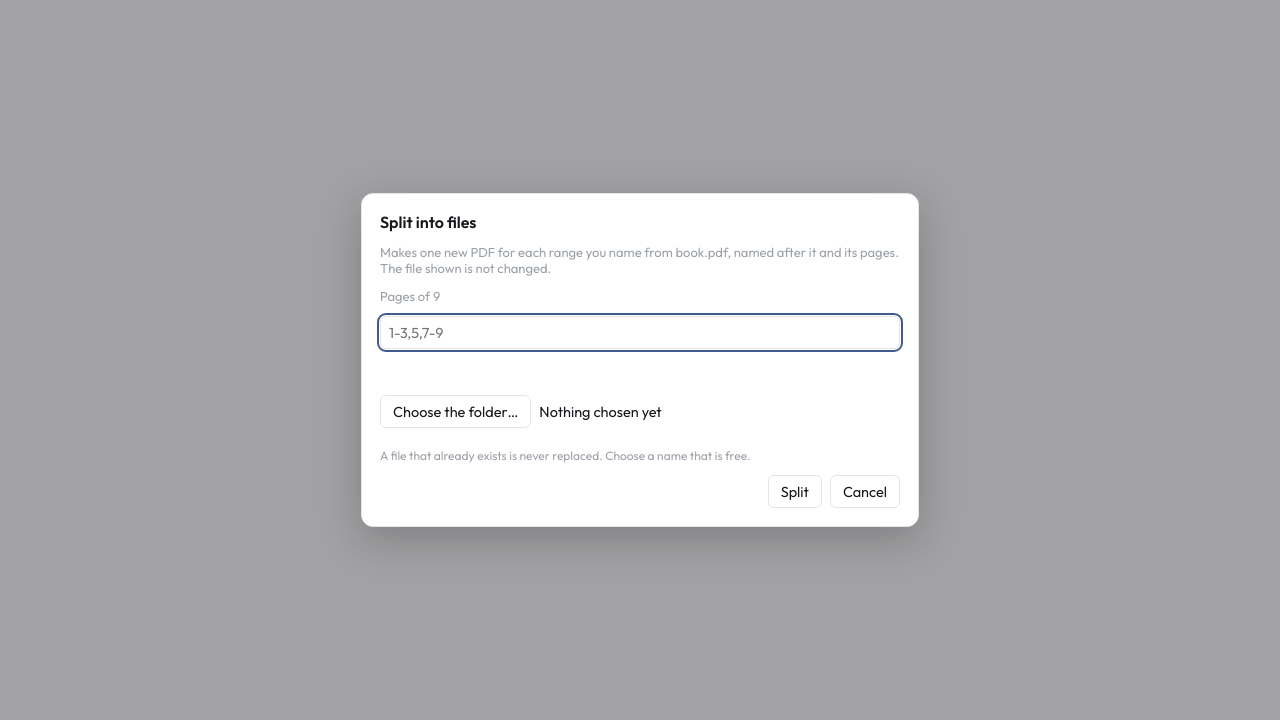
Test case: split_refuses_two_ranges_that_would_write_the_same_file
Click the button "Choose the folder…".
click(456, 412)  # box [380,395,531,428]
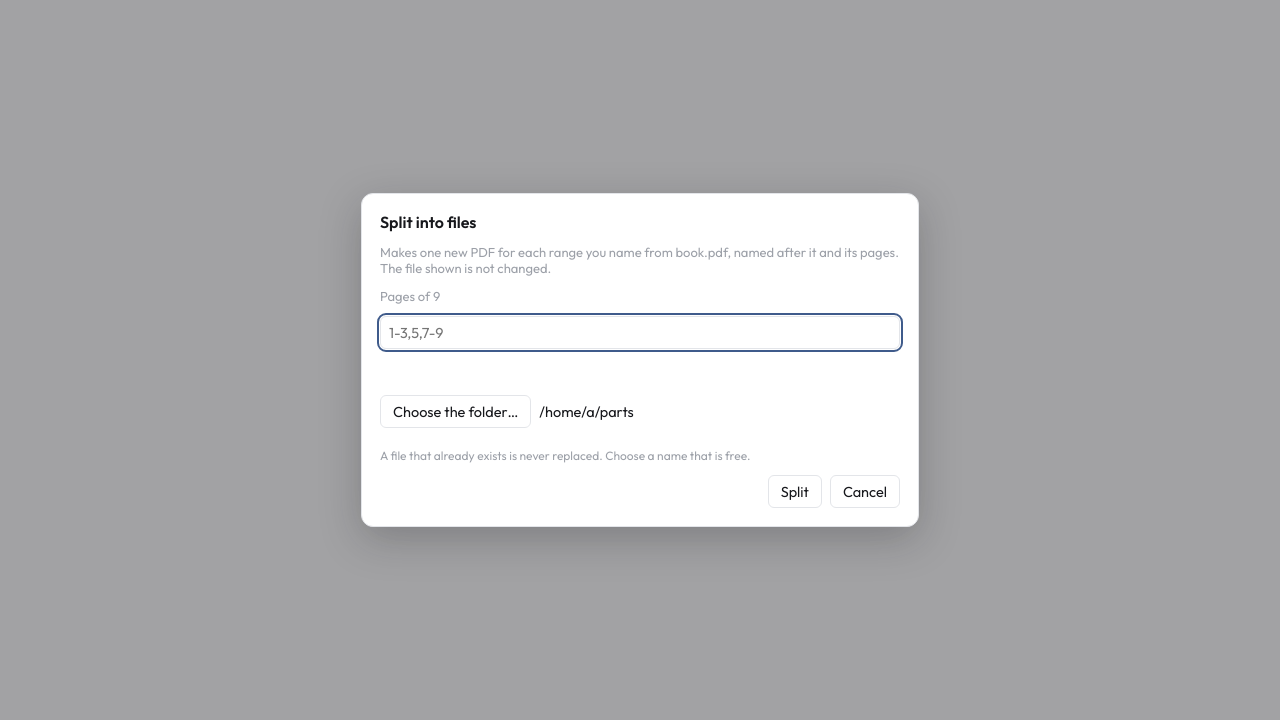
Expected: the text with test id "pdf-job-target" no longer shows "Nothing", [539,402,634,421]
Type "5,5-5" into the field labelled "Pages of 9".
click(640, 332); type("5,5-5")  # box [380,316,900,349]
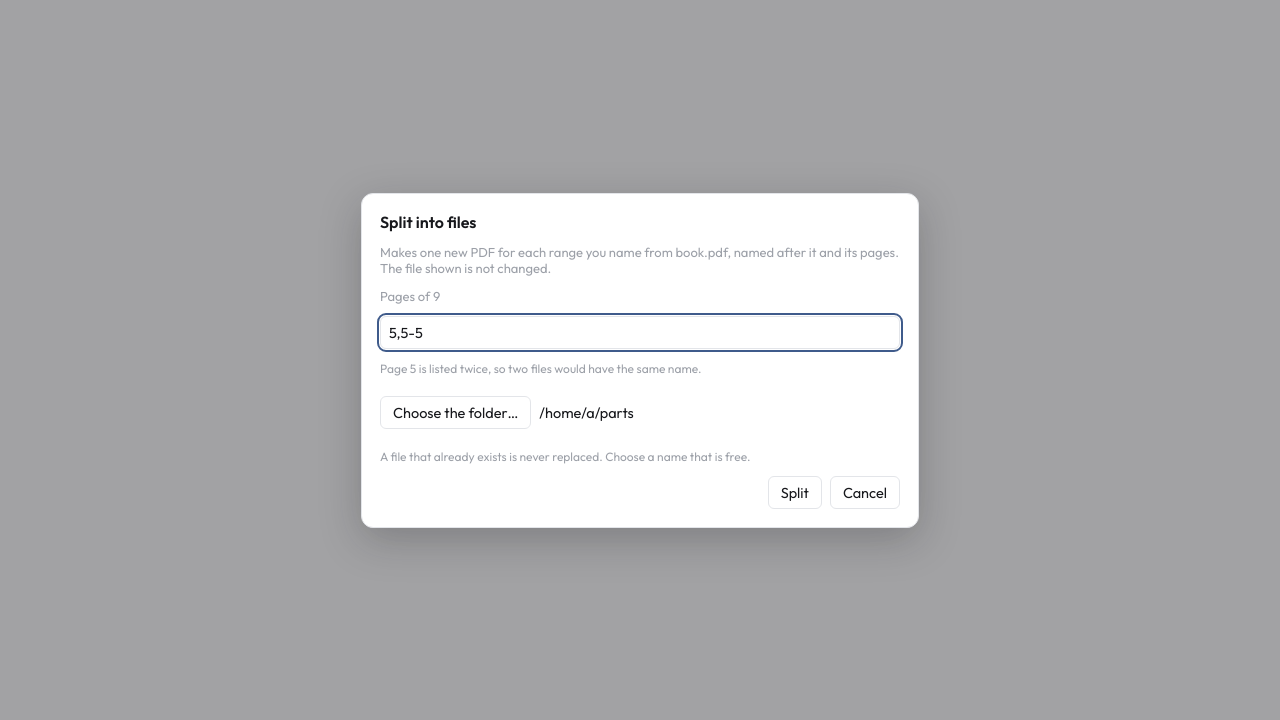
Expected: the button "Split" is disabled, [768,476,822,508]
Expected: the text "two files would have the same name" is shown, [380,360,702,376]
Replace the text in the field labelled "Pages of 9" with "1-3,2-4" at {"x": 640, "y": 332}, box [380,316,900,348]
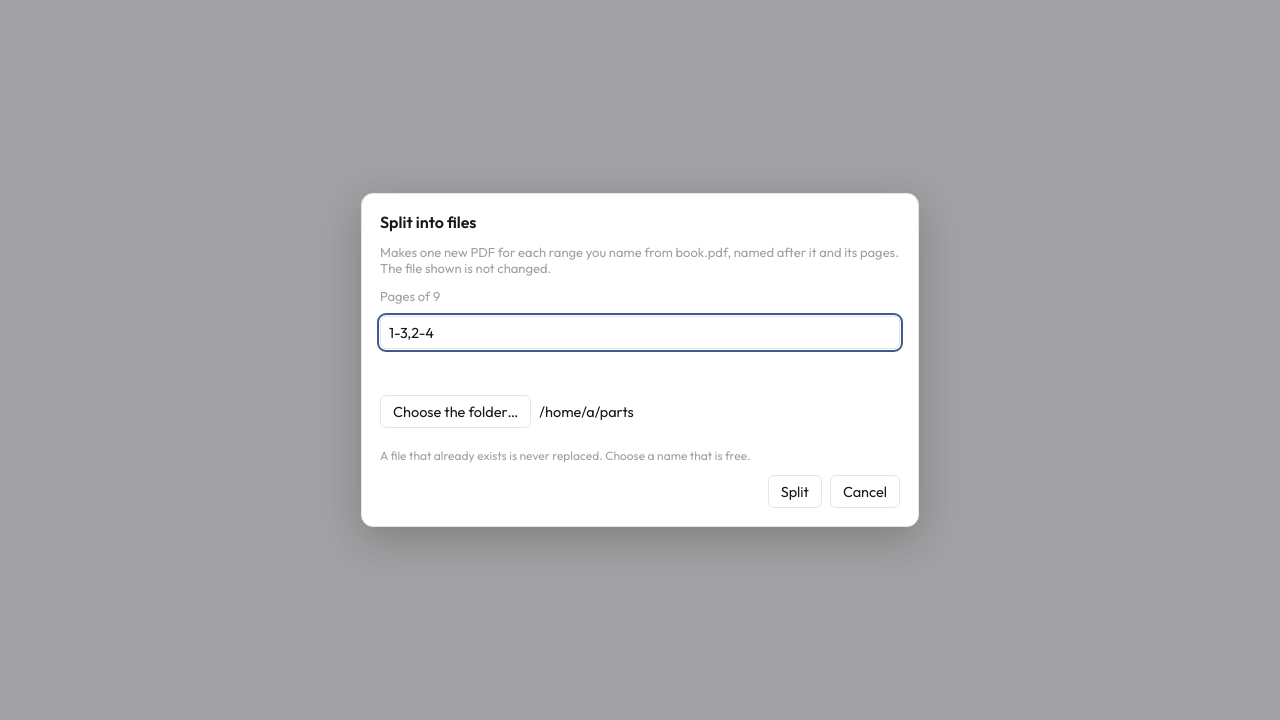
Expected: the button "Split" is enabled, [768,475,822,508]
